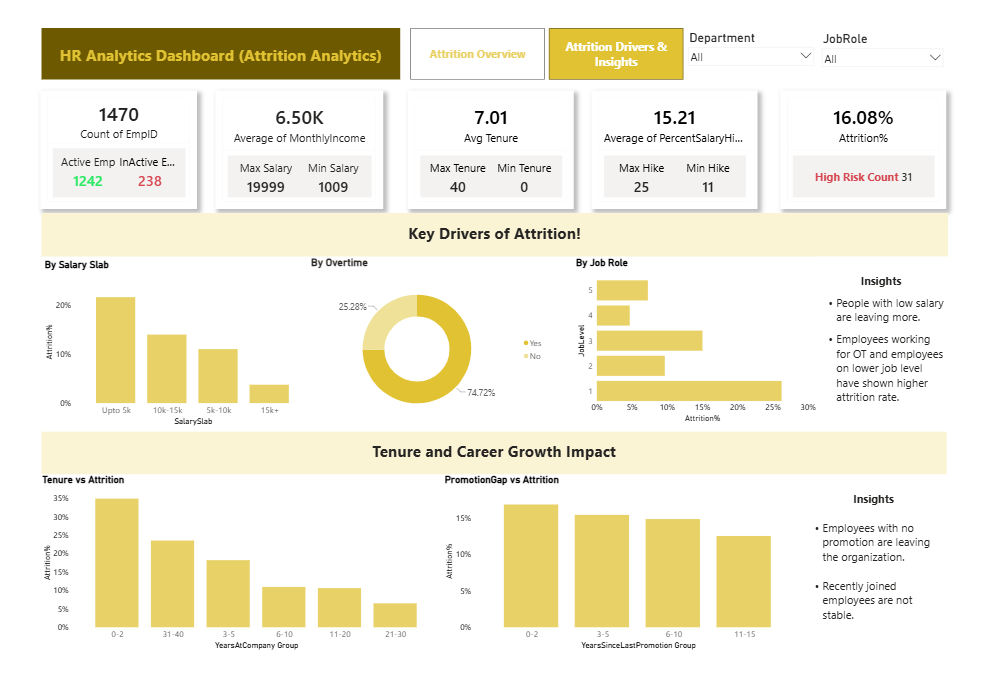

The dashboard page shown, as its layout file describes it:
{"tool":"powerbi","page":{"name":"Attrition Drivers & Insights","canvas":[2400,1680],"ordinal":1},"visuals":[{"type":"columnChart","title":"By Salary Slab","fields":{"Y":["_Measure.Attrition%"],"Category":["HR_Analytics.SalarySlab"]},"box":[105.6,633.3,655.6,408.3],"z":0},{"type":"donutChart","title":"By Overtime","fields":{"Y":["_Measure.Attrition%"],"Category":["HR_Analytics.OverTime"]},"box":[750,627.8,577.8,408.3],"z":1000},{"type":"barChart","title":"By Job Role","fields":{"Category":["HR_Analytics.JobLevel"],"Y":["_Measure.Attrition%"]},"box":[1394.4,627.8,591.7,408.3],"z":2000},{"type":"cardVisual","fields":{"Data":["Count(HR_Analytics.EmpID)"]},"box":[101.1,223.9,380,287.5],"z":3000},{"type":"cardVisual","fields":{"Data":["Avg(HR_Analytics.MonthlyIncome)"]},"box":[523.6,223.9,407.5,287.5],"z":4000},{"type":"cardVisual","fields":{"Data":["Avg(HR_Analytics.YearsAtCompany)"]},"box":[991.1,223.9,402.5,287.5],"z":5000},{"type":"cardVisual","fields":{"Data":["Avg(HR_Analytics.PercentSalaryHike)"]},"box":[1436.1,223.9,402.5,287.5],"z":6000},{"type":"cardVisual","fields":{"Data":["_Measure.Attrition%"]},"box":[1893.9,224.4,402.5,287.5],"z":7000},{"type":"textbox","box":[102.8,522.2,2197.2,105.6],"z":8000},{"type":"textbox","box":[102.8,1050,2194.4,105.6],"z":9000},{"type":"columnChart","title":"Tenure vs Attrition","fields":{"Category":["HR_Analytics.YearsAtCompany Group"],"Y":["_Measure.Attrition%"]},"box":[100,1155.6,975,430.6],"z":10000},{"type":"columnChart","title":"PromotionGap vs Attrition","fields":{"Category":["HR_Analytics.YearsSinceLastPromotion Group"],"Y":["_Measure.Attrition%"]},"box":[1075,1155.6,875,430.6],"z":11000},{"type":"textbox","box":[101.7,73.3,869.4,125],"z":12000},{"type":"pageNavigator","box":[996.1,73.3,663.9,125],"z":12001},{"type":"slicer","fields":{"Values":["HR_Analytics.Department"]},"box":[1660,73.3,325,125],"z":12002},{"type":"slicer","fields":{"Values":["HR_Analytics.JobRole"]},"box":[1985,76.1,313.9,122.2],"z":12003},{"type":"textbox","box":[1986.1,627.8,313.9,408.3],"z":12004},{"type":"textbox","box":[1952.8,1155.6,344.4,430.6],"z":12005}]}

Visuals, with their boxes in screenshot pixels (x1, y1, x2, y2), scaled from the page's 2400x1680 canvas onto the 987x689 screenshot:
"By Salary Slab" columnChart: {"left": 43, "top": 260, "right": 313, "bottom": 427}
"By Overtime" donutChart: {"left": 308, "top": 257, "right": 546, "bottom": 425}
"By Job Role" barChart: {"left": 573, "top": 257, "right": 817, "bottom": 425}
cardVisual - Count(HR_Analytics.EmpID): {"left": 42, "top": 92, "right": 198, "bottom": 210}
cardVisual - Avg(HR_Analytics.MonthlyIncome): {"left": 215, "top": 92, "right": 383, "bottom": 210}
cardVisual - Avg(HR_Analytics.YearsAtCompany): {"left": 408, "top": 92, "right": 573, "bottom": 210}
cardVisual - Avg(HR_Analytics.PercentSalaryHike): {"left": 591, "top": 92, "right": 756, "bottom": 210}
cardVisual - _Measure.Attrition%: {"left": 779, "top": 92, "right": 944, "bottom": 210}
textbox: {"left": 42, "top": 214, "right": 946, "bottom": 257}
textbox: {"left": 42, "top": 431, "right": 945, "bottom": 474}
"Tenure vs Attrition" columnChart: {"left": 41, "top": 474, "right": 442, "bottom": 651}
"PromotionGap vs Attrition" columnChart: {"left": 442, "top": 474, "right": 802, "bottom": 651}
textbox: {"left": 42, "top": 30, "right": 399, "bottom": 81}
pageNavigator: {"left": 410, "top": 30, "right": 683, "bottom": 81}
slicer - HR_Analytics.Department: {"left": 683, "top": 30, "right": 816, "bottom": 81}
slicer - HR_Analytics.JobRole: {"left": 816, "top": 31, "right": 945, "bottom": 81}
textbox: {"left": 817, "top": 257, "right": 946, "bottom": 425}
textbox: {"left": 803, "top": 474, "right": 945, "bottom": 651}
